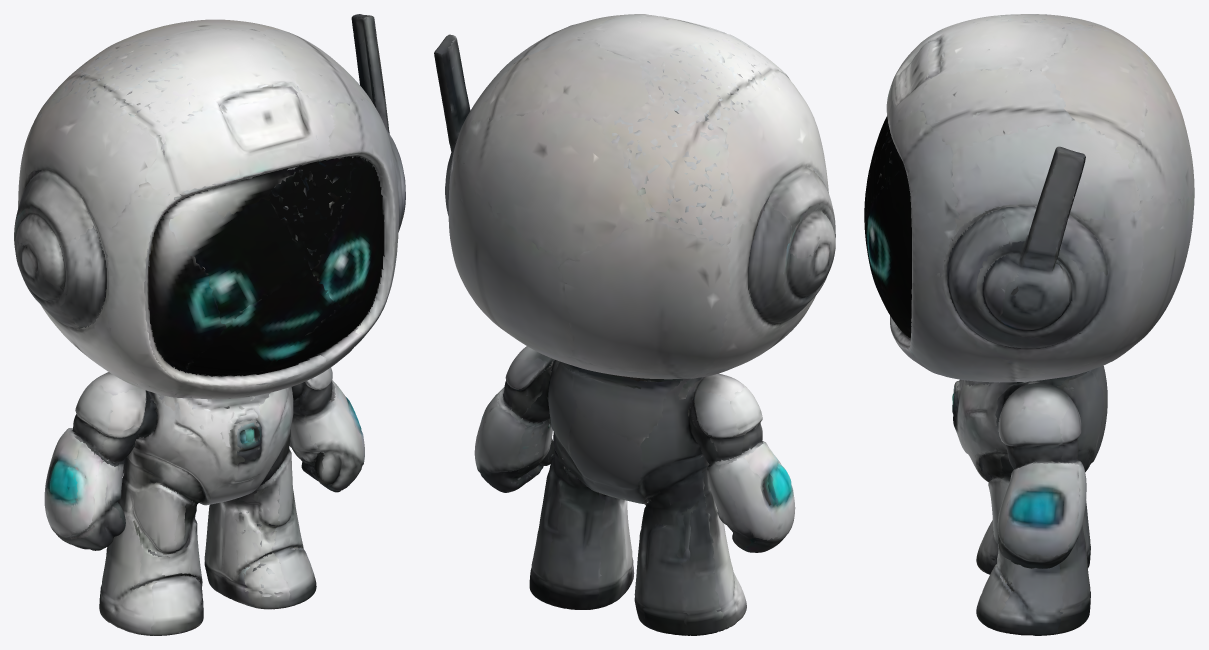
Rendered from robot_souriant.glb.
The picture shows the model from 3 angles, left to right: view 1: azimuth 30°, elevation 25°; view 2: azimuth 150°, elevation 25°; view 3: azimuth 270°, elevation 25°; orthographic projection.
Parts seen in each view (by area): view 1: geometry_0; view 2: geometry_0; view 3: geometry_0.
Part boxes in pixels (x1=…): geometry_0: x1=14, y1=14, x2=405, y2=635; geometry_0: x1=434, y1=14, x2=835, y2=635; geometry_0: x1=864, y1=14, x2=1194, y2=635.
Bounding box in the file's own units: 0.6838 × 1 × 0.5421.
Materials: 1 (1 with a texture image).
